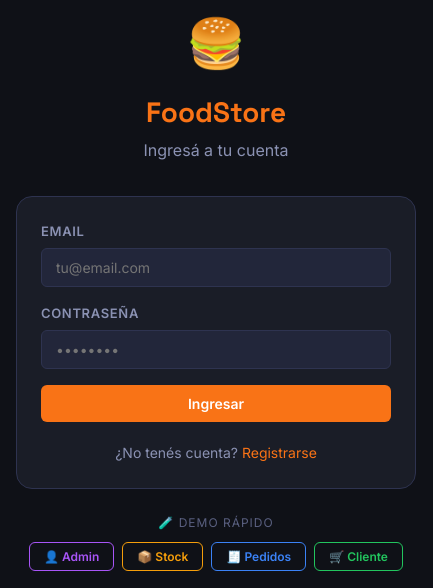
LoginPage › shows loading state on submit
In the field with placeholder "tu@email.com": (216, 267) [41, 248, 391, 287], type "a@b.com"
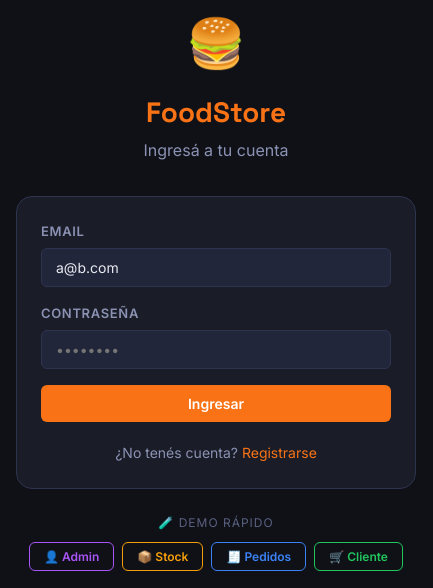
In the password field with placeholder "••••••••": (216, 349) [41, 330, 391, 369], type "12345678"
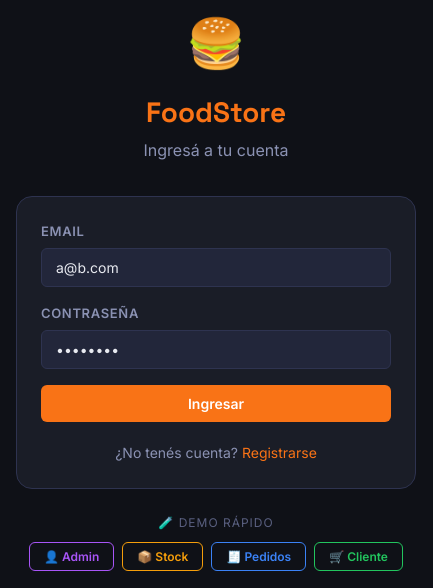
Click the button "Ingresar": (216, 403) [41, 385, 391, 422]
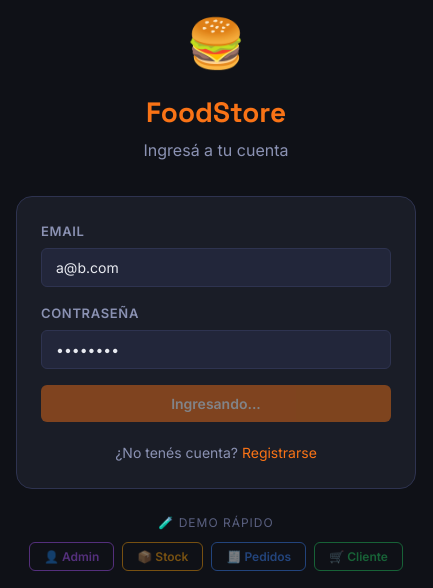
Check: the button "Ingresando..." is shown, box [41, 385, 391, 422]
